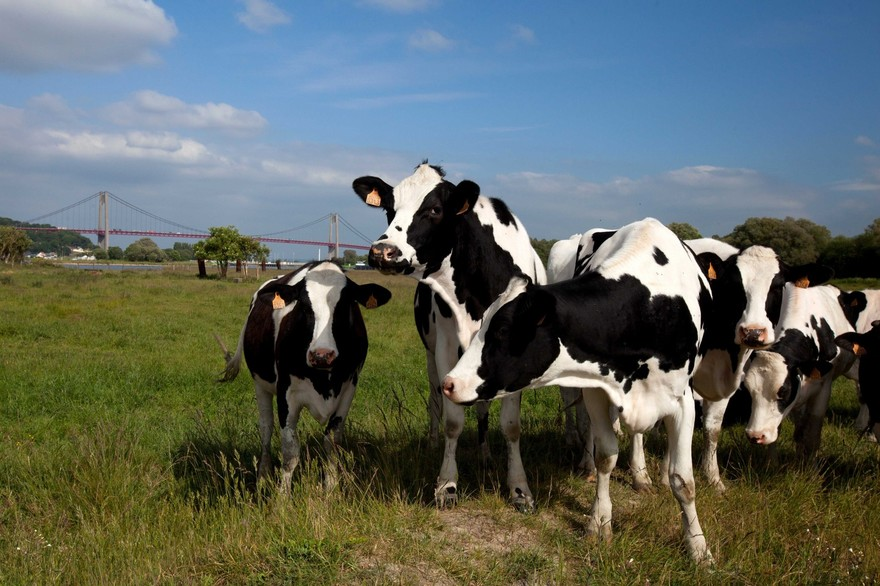cow: (441, 288, 571, 402), (359, 168, 477, 285), (711, 240, 802, 350), (291, 265, 373, 370), (736, 352, 814, 442)
